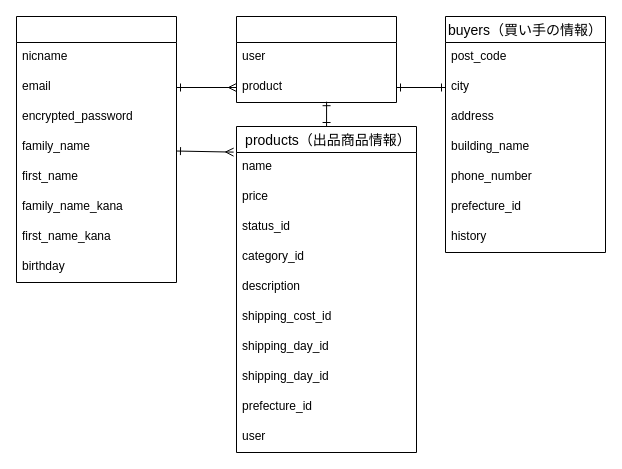
This 622x469 diagram has some shape labels left out. The box of each missing label's shape, as (x1, y1, x2, y2) in pixels:
historys（購入履歴）: (236, 16, 396, 102)
users: (16, 16, 176, 282)
